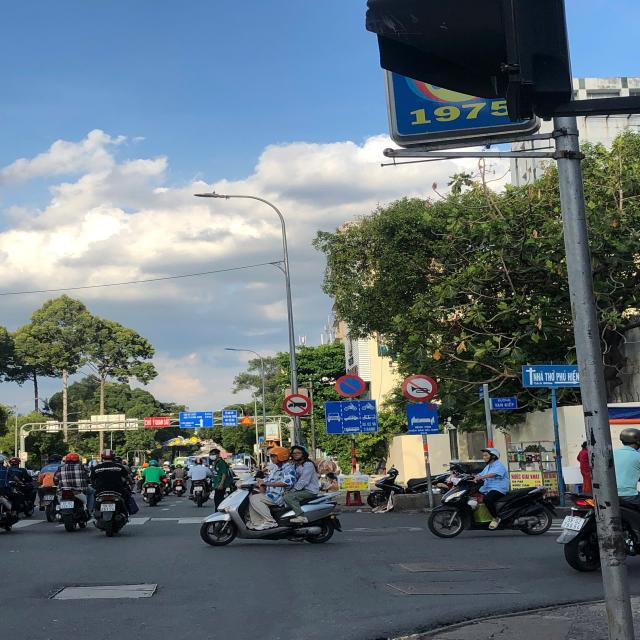Bien bao cam do xe: (334, 370, 367, 400)
Bien bao cam xe so-mi ro-mooc: (279, 389, 314, 417)
